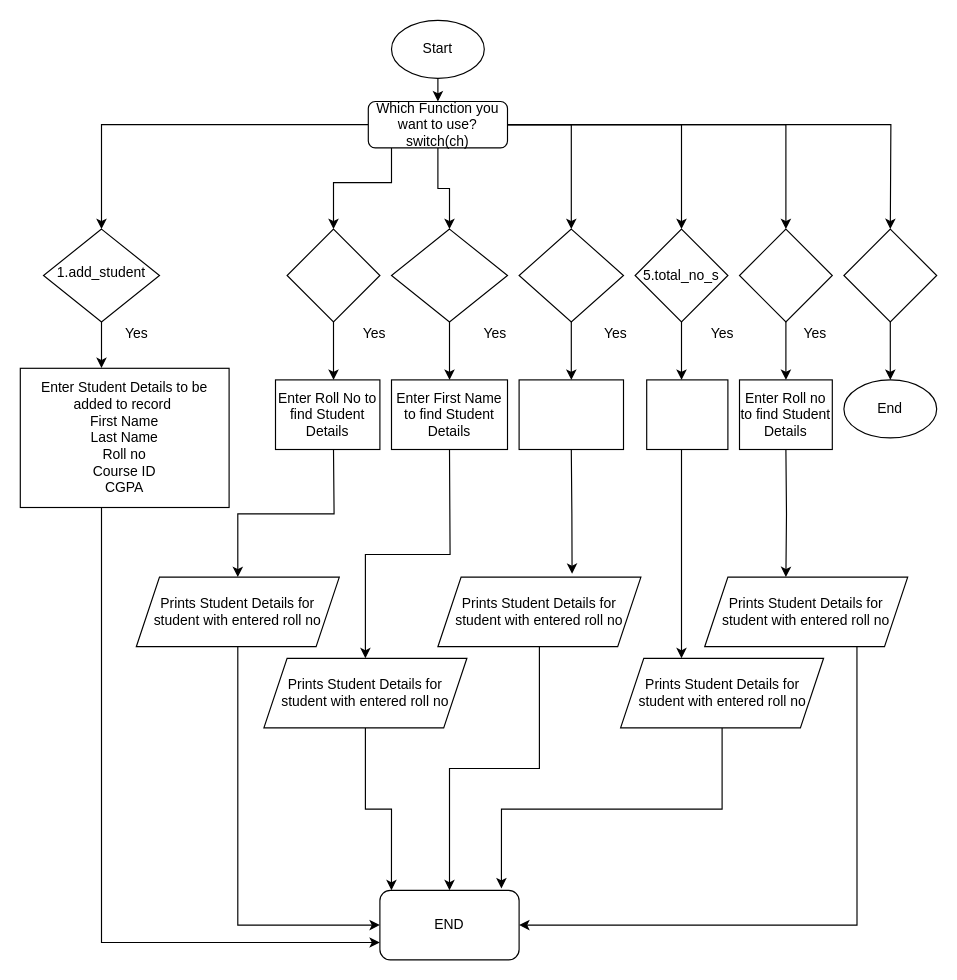
Some shapes in this 957 by 980 pixel diagram are drawn without their labels. Here are the shapes that lost their labels. From the top down, the centre of each, then its label:
At pixel 333 275: "2.find_roll_no".
At pixel 448 275: "3.find_first_name".
At pixel 571 275: "4.find_course".
At pixel 785 275: "6.delete_s".
At pixel 890 275: "7.exit".
At pixel 571 414: "Enter Course ID to find Student Details".
At pixel 687 414: "Find Total No.students".
